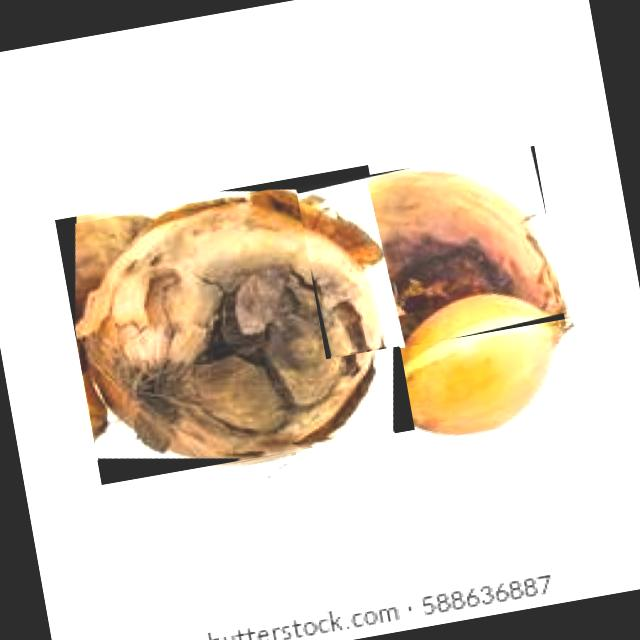rotten: (76, 190, 388, 460), (301, 171, 563, 345)
